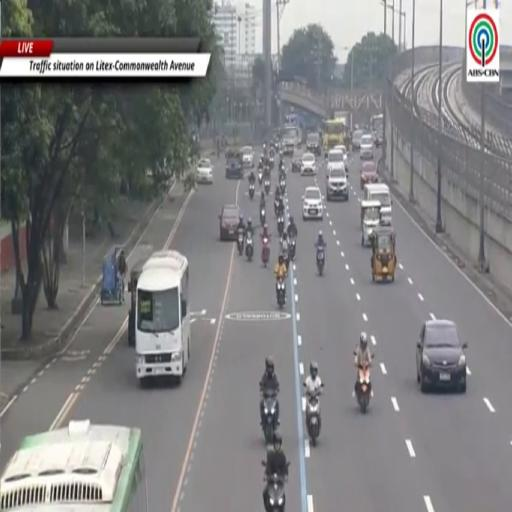bus: (0, 420, 148, 511), (135, 250, 190, 386), (323, 119, 347, 157), (371, 115, 383, 147)
car: (417, 319, 467, 392), (326, 168, 348, 201), (219, 205, 239, 241), (303, 187, 323, 220), (327, 149, 346, 175), (226, 152, 244, 179), (360, 162, 378, 189), (196, 158, 212, 184), (334, 144, 348, 171), (306, 132, 321, 157), (301, 153, 316, 175), (360, 134, 373, 159), (241, 146, 254, 169), (352, 130, 364, 151), (374, 126, 383, 148), (292, 157, 301, 172)
motorcycle: (306, 383, 323, 446), (262, 390, 278, 444), (355, 364, 371, 413), (264, 474, 285, 511), (280, 236, 290, 269), (261, 237, 270, 268), (276, 279, 285, 309), (245, 232, 254, 262), (316, 247, 324, 276), (237, 229, 244, 254), (289, 237, 296, 260), (277, 216, 284, 235), (283, 250, 289, 270), (260, 206, 266, 226), (274, 198, 280, 216), (264, 179, 270, 195), (258, 169, 263, 186), (280, 179, 285, 195), (249, 184, 254, 200), (270, 156, 273, 169)
truck: (282, 124, 298, 156)
